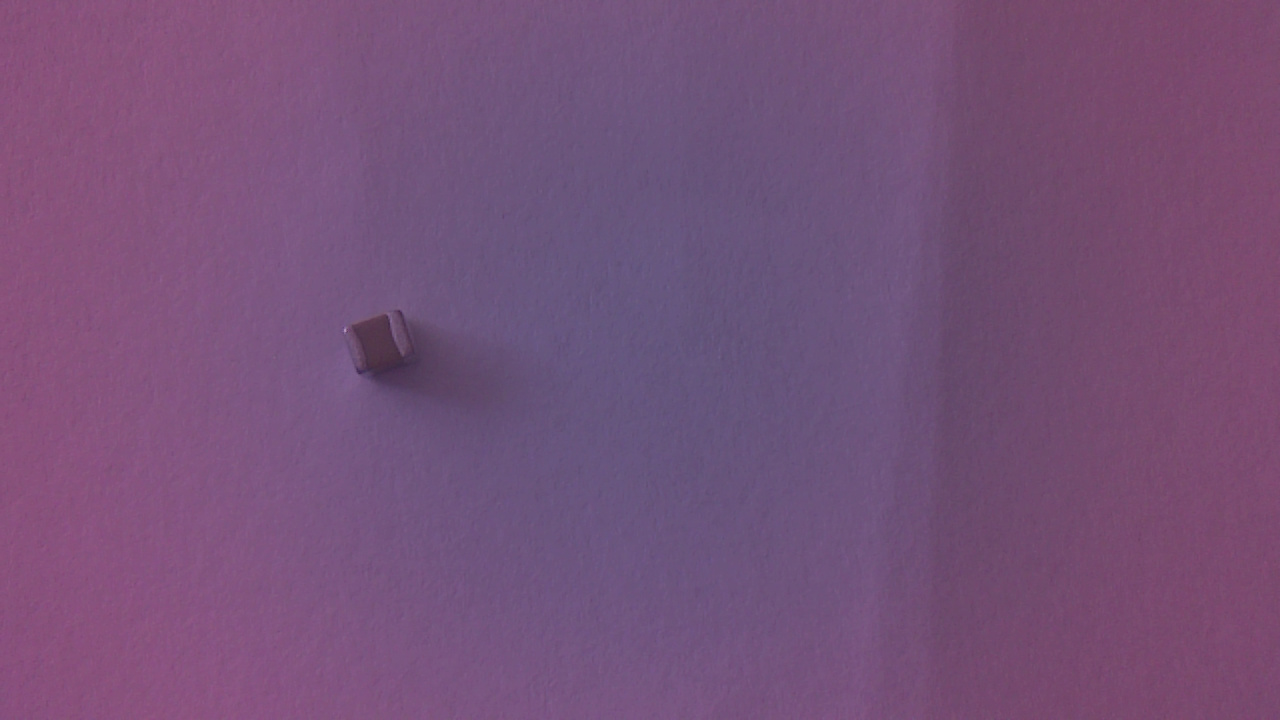Condensator: (344, 310, 425, 384)
